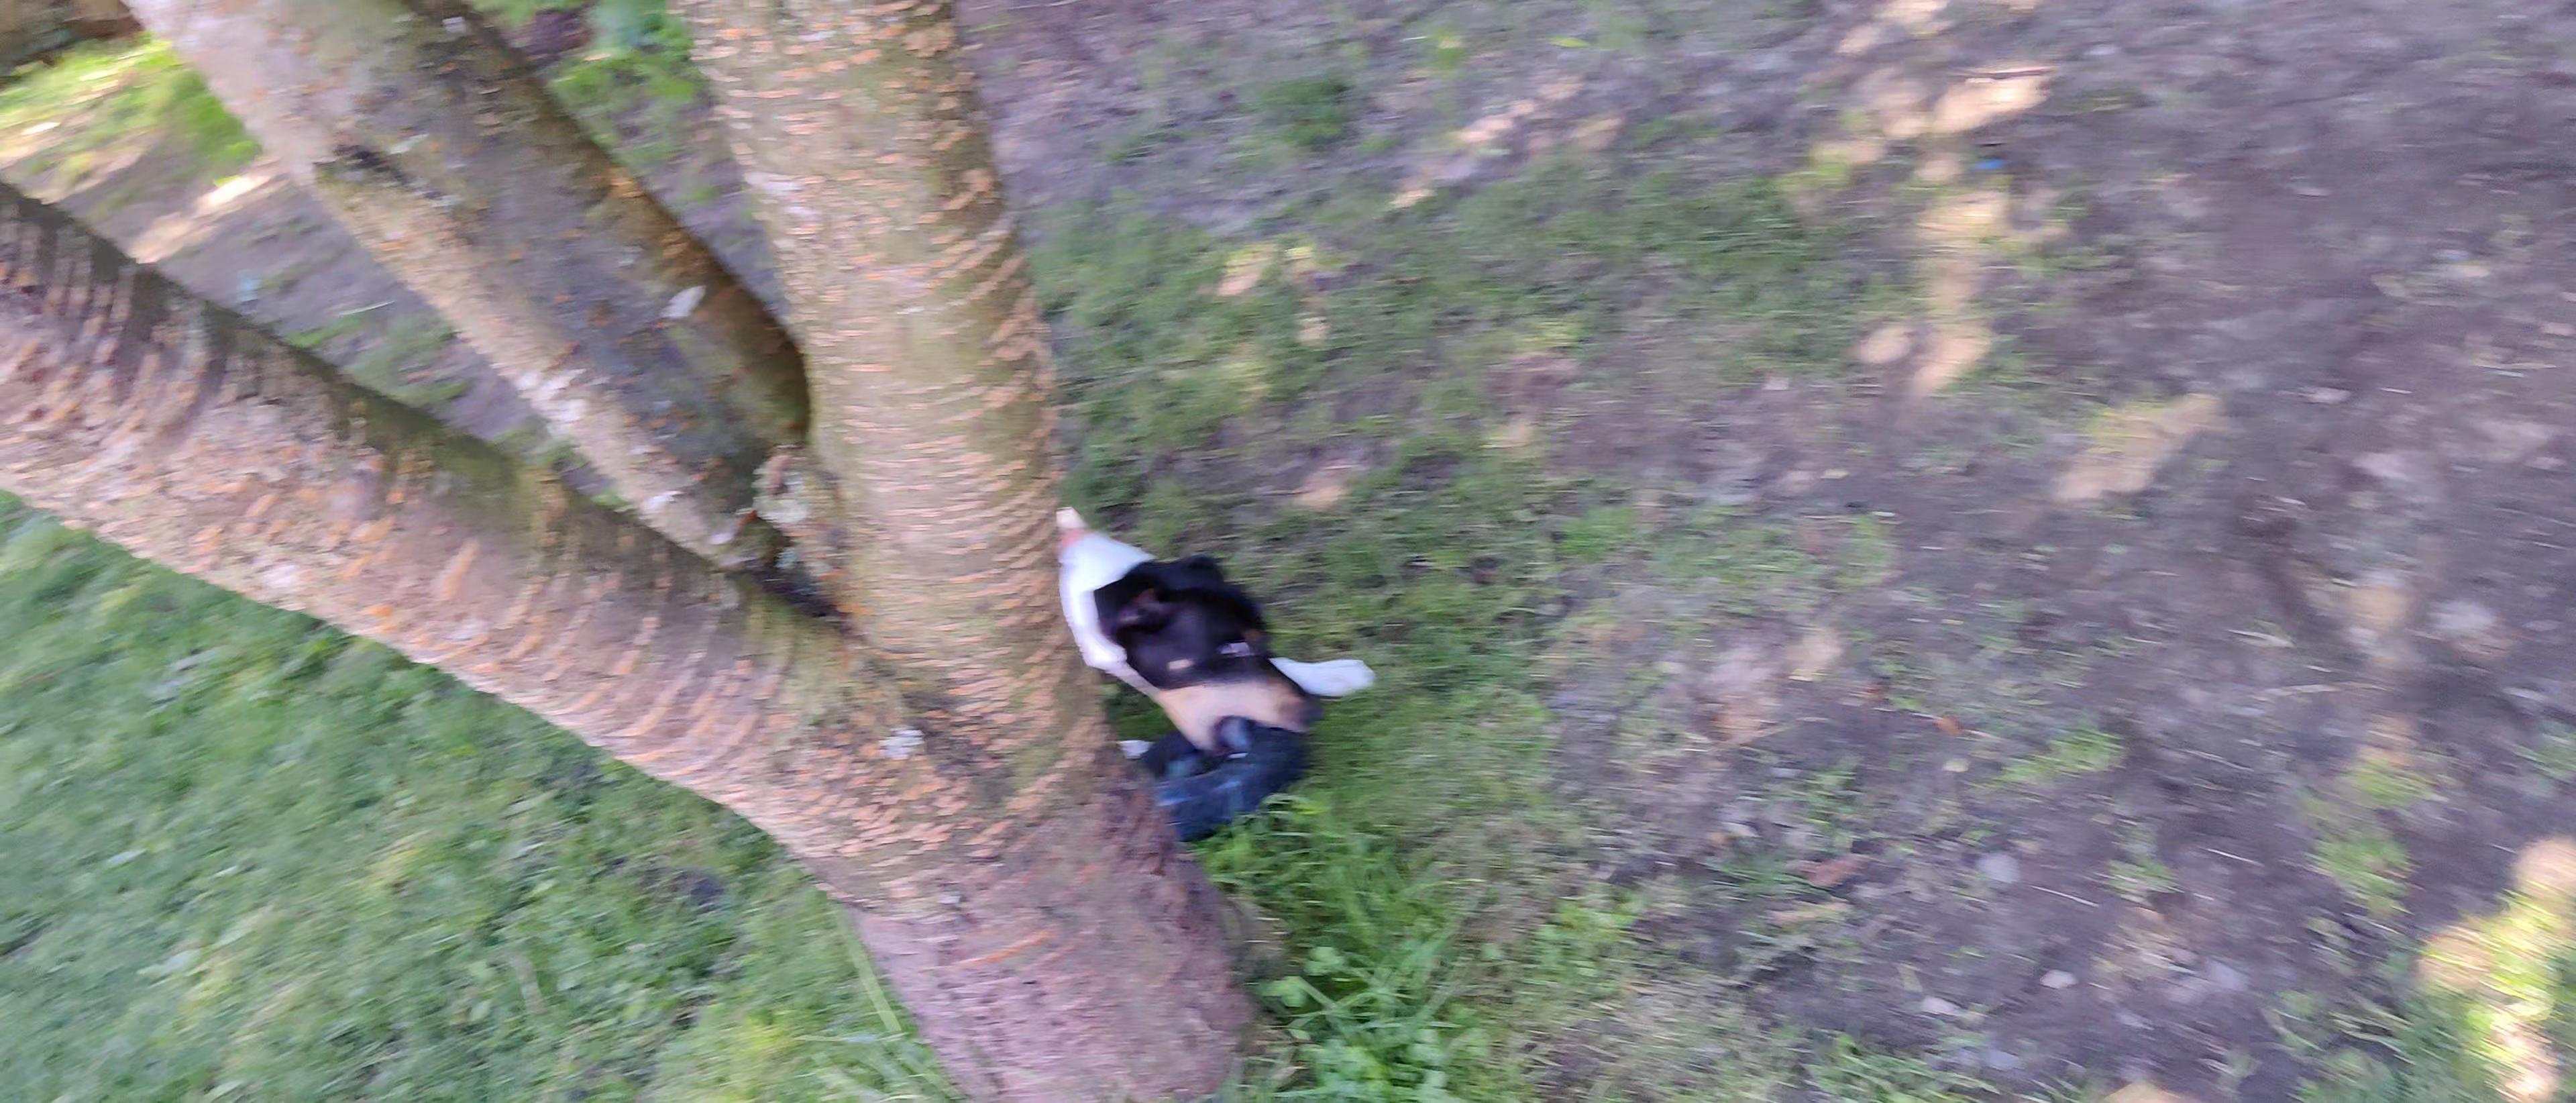Dog: (1019, 478, 1383, 771)
